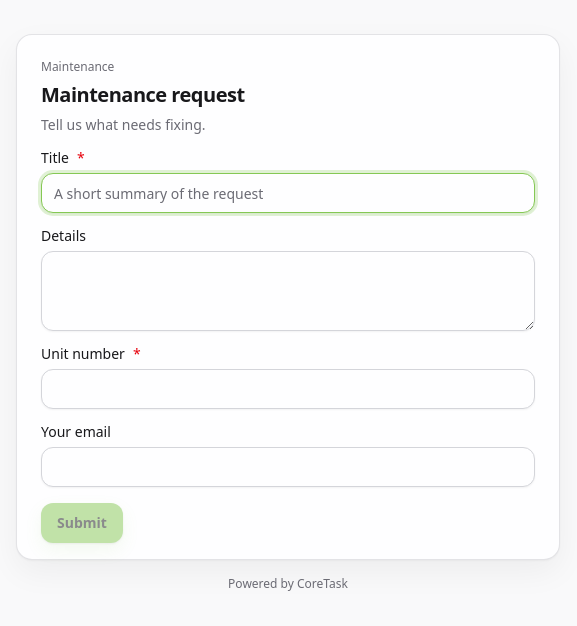
Test: PublicFormPage › says what the server refused, and keeps what was typed
This screenshot has width=577, height=626.
Type "Leaking tap" into the field labelled "Title *" at (288, 193), box [41,173,535,213]
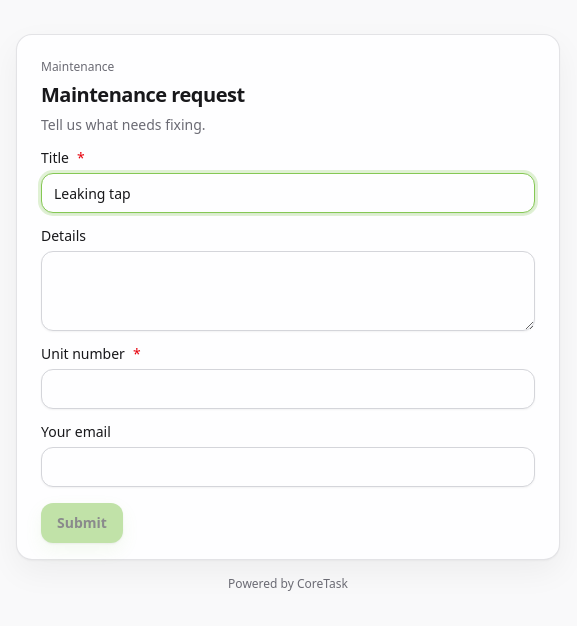
Type "4B" into the field labelled "Unit number *" at (288, 389), box [41,369,535,409]
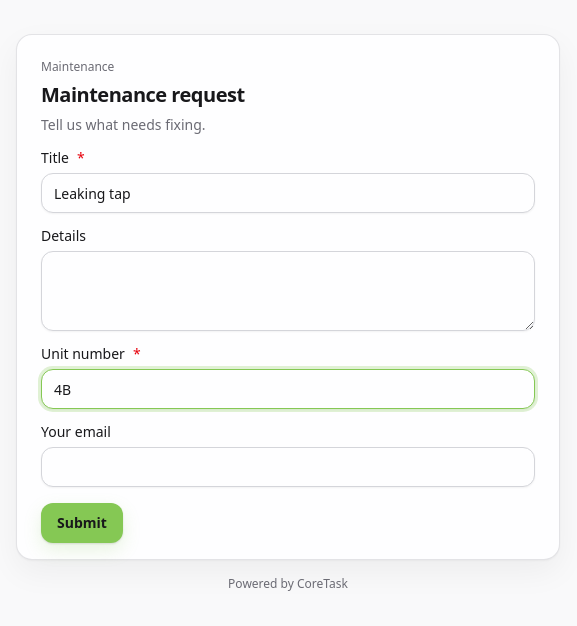
Click the button "Submit" at (82, 523), box [41,503,123,543]
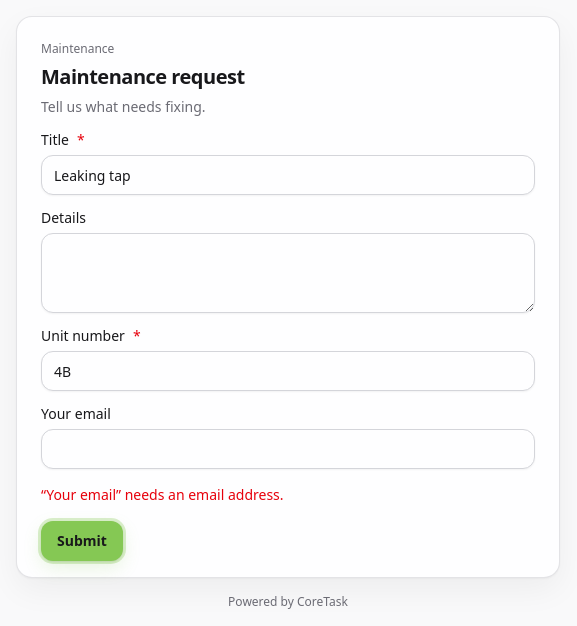
expect the text "“Your email” needs an email address." is shown: met, box [41,485,284,504]
